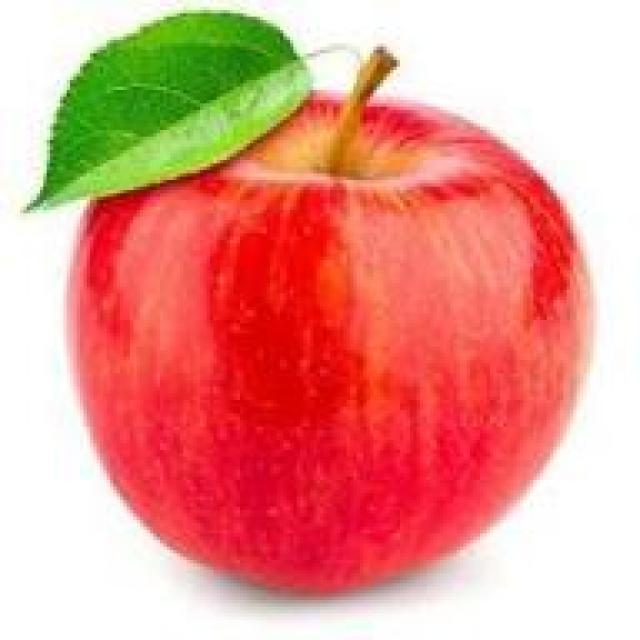apple: (77, 100, 580, 570)
